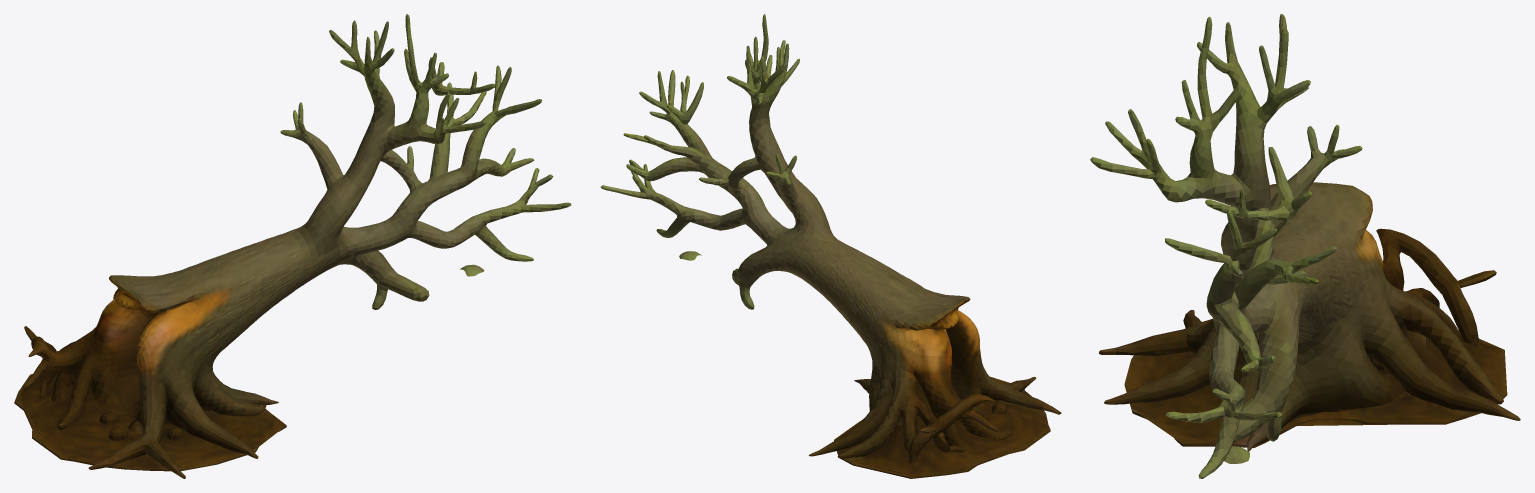
3 renders of one model, left to right at view 1: azimuth 30°, elevation 25°; view 2: azimuth 150°, elevation 25°; view 3: azimuth 270°, elevation 25°, orthographic. The views are drawn at different scales.
Parts seen in each view (by area): view 1: texture_pbr_v128; view 2: texture_pbr_v128; view 3: texture_pbr_v128.
Part boxes in pixels (bbox=[...]): texture_pbr_v128: bbox=[14, 14, 571, 478]; texture_pbr_v128: bbox=[600, 14, 1061, 478]; texture_pbr_v128: bbox=[1090, 14, 1520, 478].
Bounding box in the file's own units: 0.9619 × 0.7042 × 0.5299.
Materials: 1 (1 with a texture image).
